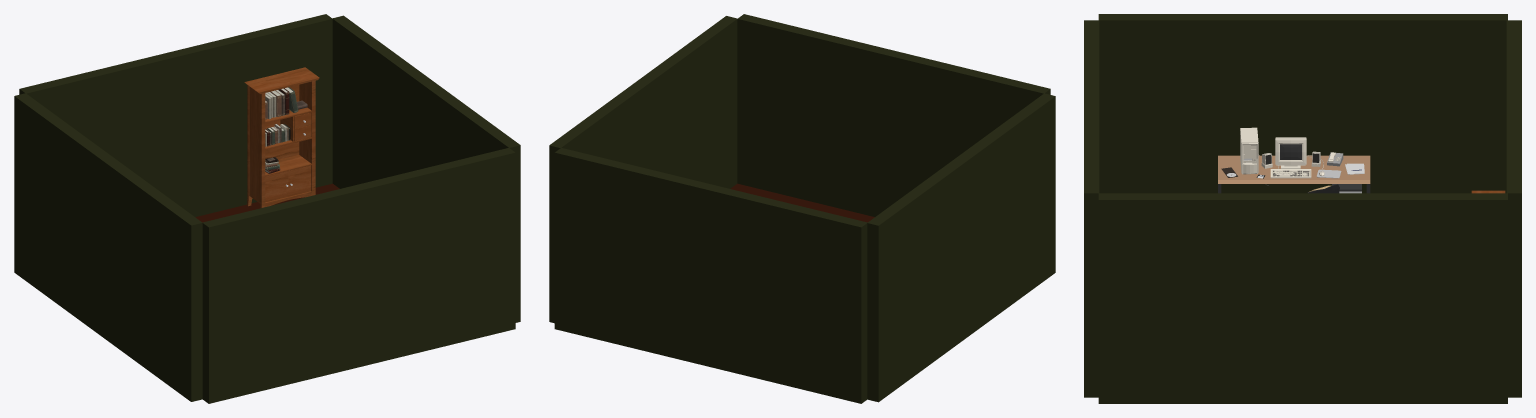
The model's file is Room.obj.
3 views of the same model, side by side, from view 1: azimuth 30°, elevation 25°; view 2: azimuth 150°, elevation 25°; view 3: azimuth 270°, elevation 25° (orthographic). The views are drawn at different scales.
Parts seen in each view (by area): view 1: Cube.004_Material.003, Cube.002_Material.003, Cube.003_Material.003, Cube.001_Material.003, Bookshelf_Wood.001, Bookshelf_Books.001, Cube_Material.002; view 2: Cube.003_Material.003, Cube.004_Material.003, Cube.002_Material.003, Cube.001_Material.003, Cube_Material.002; view 3: Cube.001_Material.003, Cube.002_Material.003, Cube.004_Material.003, Cube.003_Material.003, Office_desk_ComputerDesk.001, Computer_monitor.001_ComputerDesk.001, Computer_case_ComputerDesk.001, Keyboard_ComputerDesk.001.
Boxes of the visible parts, x1,y1,x2,y2 form: Cube.004_Material.003: (202,148,515,403); Cube.002_Material.003: (14,93,202,401); Cube.003_Material.003: (19,14,332,216); Cube.001_Material.003: (332,15,520,322); Bookshelf_Wood.001: (244,67,319,208); Bookshelf_Books.001: (265,87,307,173); Cube_Material.002: (195,183,339,222); Cube.003_Material.003: (554,148,867,403); Cube.004_Material.003: (737,14,1050,216); Cube.002_Material.003: (867,93,1055,402); Cube.001_Material.003: (549,16,737,323); Cube_Material.002: (730,183,874,222); Cube.001_Material.003: (1098,193,1507,403); Cube.002_Material.003: (1098,14,1507,193); Cube.004_Material.003: (1084,20,1099,397); Cube.003_Material.003: (1506,20,1521,397); Office_desk_ComputerDesk.001: (1218,155,1370,193); Computer_monitor.001_ComputerDesk.001: (1275,137,1306,168); Computer_case_ComputerDesk.001: (1240,127,1258,174); Keyboard_ComputerDesk.001: (1270,169,1311,178).
Bounding box in the file's own units: 10.68 × 5.47 × 10.63.
